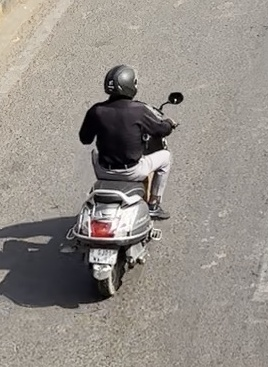BikeWithRider: (59, 62, 187, 300)
Helmet: (100, 64, 142, 103)
